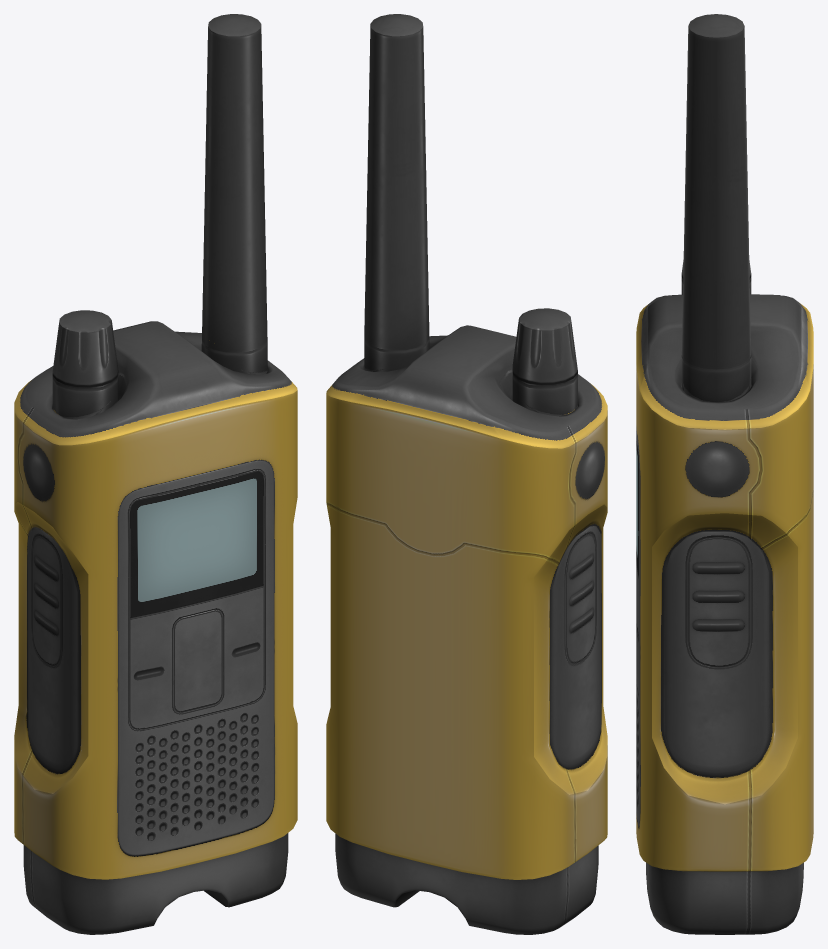
Rendered from Radio.dae.
3 renders of one model, left to right at view 1: azimuth 30°, elevation 25°; view 2: azimuth 150°, elevation 25°; view 3: azimuth 270°, elevation 25°, orthographic. The views are drawn at different scales.
Visible parts, largest first — view 1: Radio; view 2: Radio; view 3: Radio.
Boxes of the visible parts, x1,y1,x2,y2 form: Radio: (14,14,297,934); Radio: (326,14,607,934); Radio: (636,14,813,934).
Bounding box in the file's own units: 5.81 × 3.49 × 19.54.
